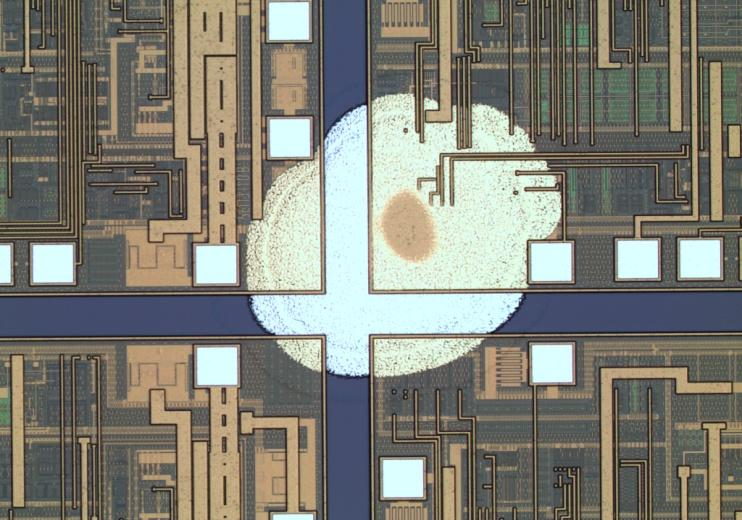BLOCK ETCH: (224, 76, 589, 407)
